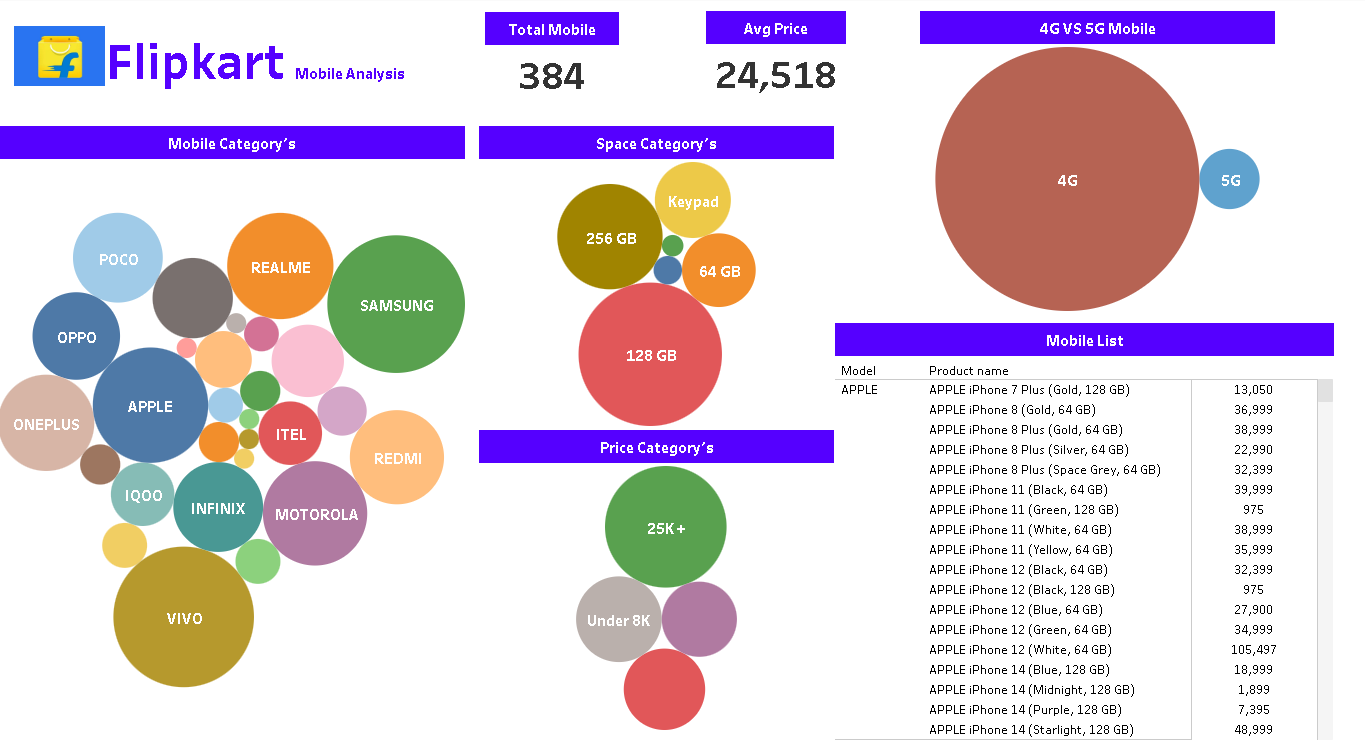

What the dashboard file says about the page in this screenshot:
{"tool":"tableau","page":{"name":"Dashboard 1","canvas":[1000,1000],"units":"permille","ordinal":0},"visuals":[{"type":"image","param":"Image/Flipkart-Logo.png","box":[5.9,10.8,988.3,978.3]},{"type":"worksheet","title":"Avg Price","mark":"Automatic","box":[516.9,13.5,121.2,153.7]},{"type":"worksheet","title":"4G/5G","mark":"Circle","box":[673.6,13.5,259.7,405.4]},{"type":"worksheet","title":"Total Mobail","mark":"Automatic","box":[355,15.2,130.7,158.8]},{"type":"title","box":[77.9,22,293.5,114.9]},{"type":"image","param":"Image/[number redacted]-[number redacted]-[number redacted]-flipkart-logo-detail-icon.jpe","box":[10.4,33.8,66.7,84.5]},{"type":"worksheet","title":"Space","mark":"Circle","box":[350.7,168.9,259.7,405.4]},{"type":"worksheet","title":"List","mark":"Automatic","rows":["Model","Product_name"],"box":[611.3,435.8,369.7,562.5]},{"type":"worksheet","title":"Price Category","mark":"Circle","box":[350.7,579.4,259.7,405.4]}]}

Visuals, with their boxes on the dashboard's canvas, which has no fixed pixel size, in thousandths of its width and height (x1, y1, x2, y2). These are canvas units, not pixel positions in the 1365x741 screenshot, which may show the page scaled, cropped or inside an application window:
image: l=6, t=11, r=994, b=989
"Avg Price" worksheet: l=517, t=14, r=638, b=167
"4G/5G" worksheet (Circle marks): l=674, t=14, r=933, b=419
"Total Mobail" worksheet: l=355, t=15, r=486, b=174
title: l=78, t=22, r=371, b=137
image: l=10, t=34, r=77, b=118
"Space" worksheet (Circle marks): l=351, t=169, r=610, b=574
"List" worksheet: l=611, t=436, r=981, b=998
"Price Category" worksheet (Circle marks): l=351, t=579, r=610, b=985
